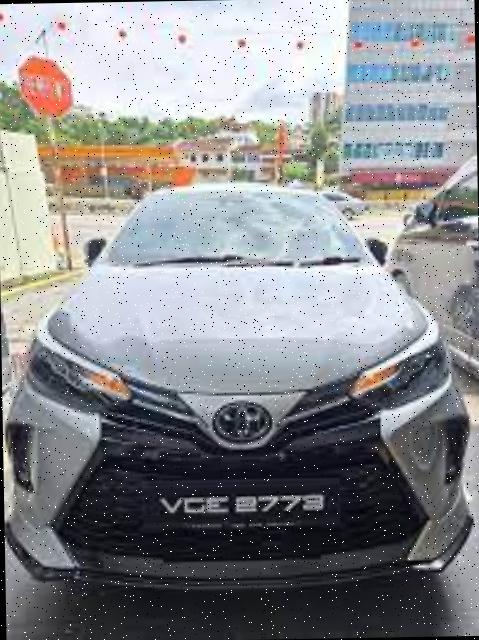License_Plate: (123, 482, 347, 528)
car: (1, 160, 479, 595)
